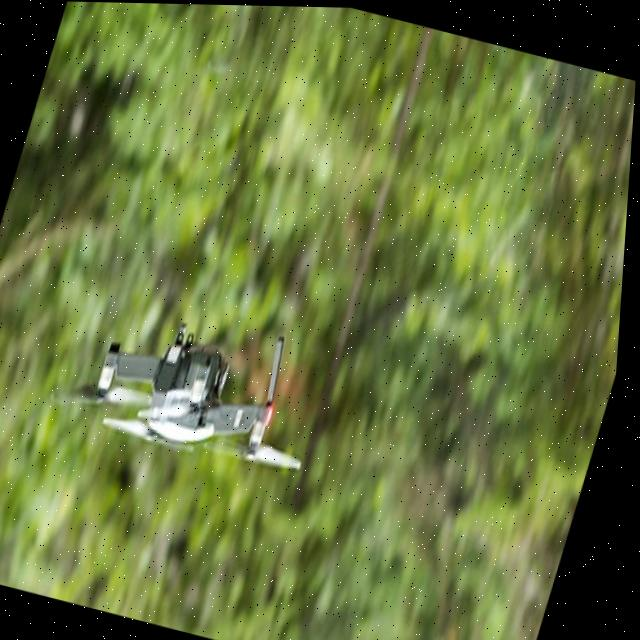drones: (25, 258, 385, 572)
